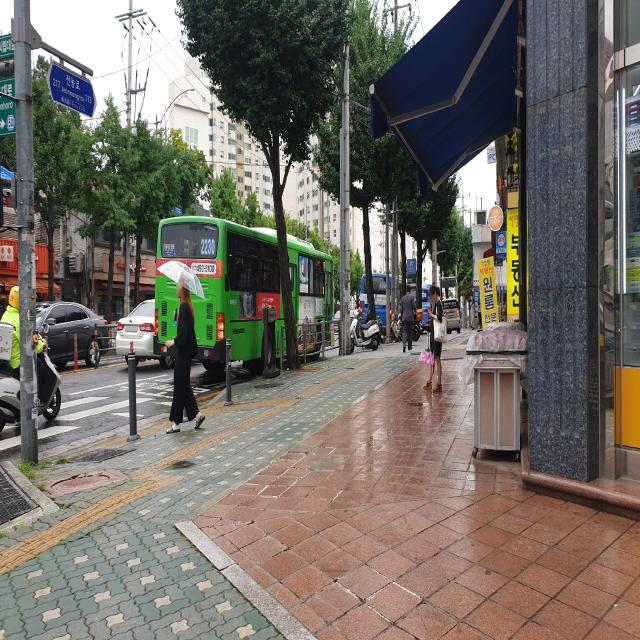motorbike: (350, 309, 381, 354)
